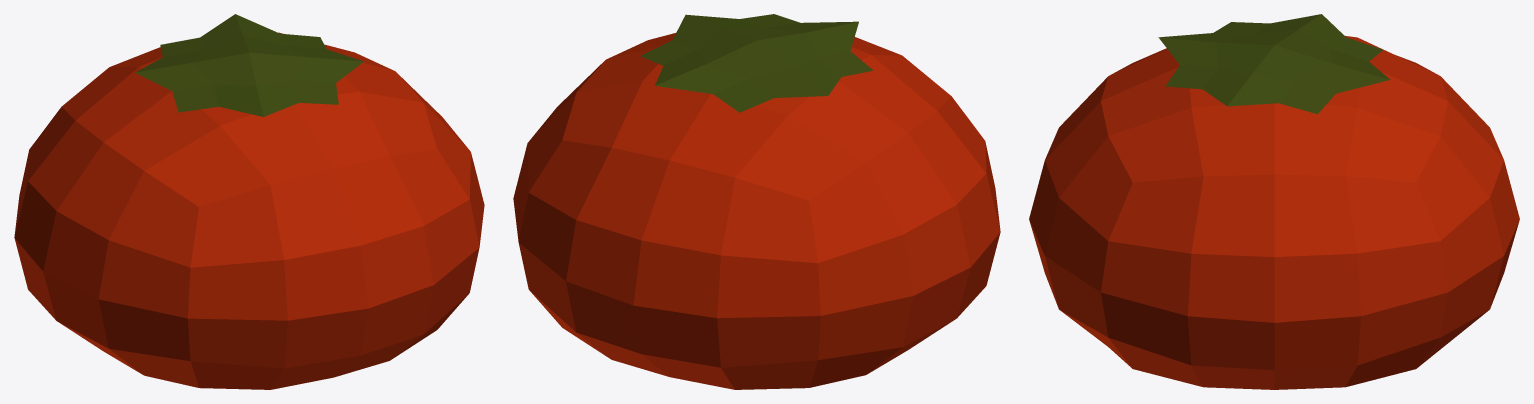
Rendered from tomato.fbx.
3 renders of one model, left to right at view 1: azimuth 30°, elevation 25°; view 2: azimuth 150°, elevation 25°; view 3: azimuth 270°, elevation 25°, orthographic. The views are drawn at different scales.
Parts seen in each view (by area): view 1: tomato; view 2: tomato; view 3: tomato.
Boxes of the visible parts, <box> form: tomato: <box>14,14,484,389</box>; tomato: <box>513,14,1000,389</box>; tomato: <box>1029,14,1519,389</box>.
Size of the model in its own units: 30.21 by 20.04 by 30.21.
